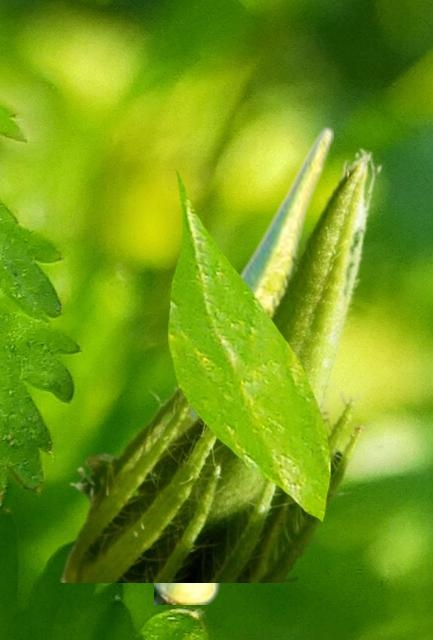okra: (55, 146, 382, 581), (154, 125, 332, 603)
